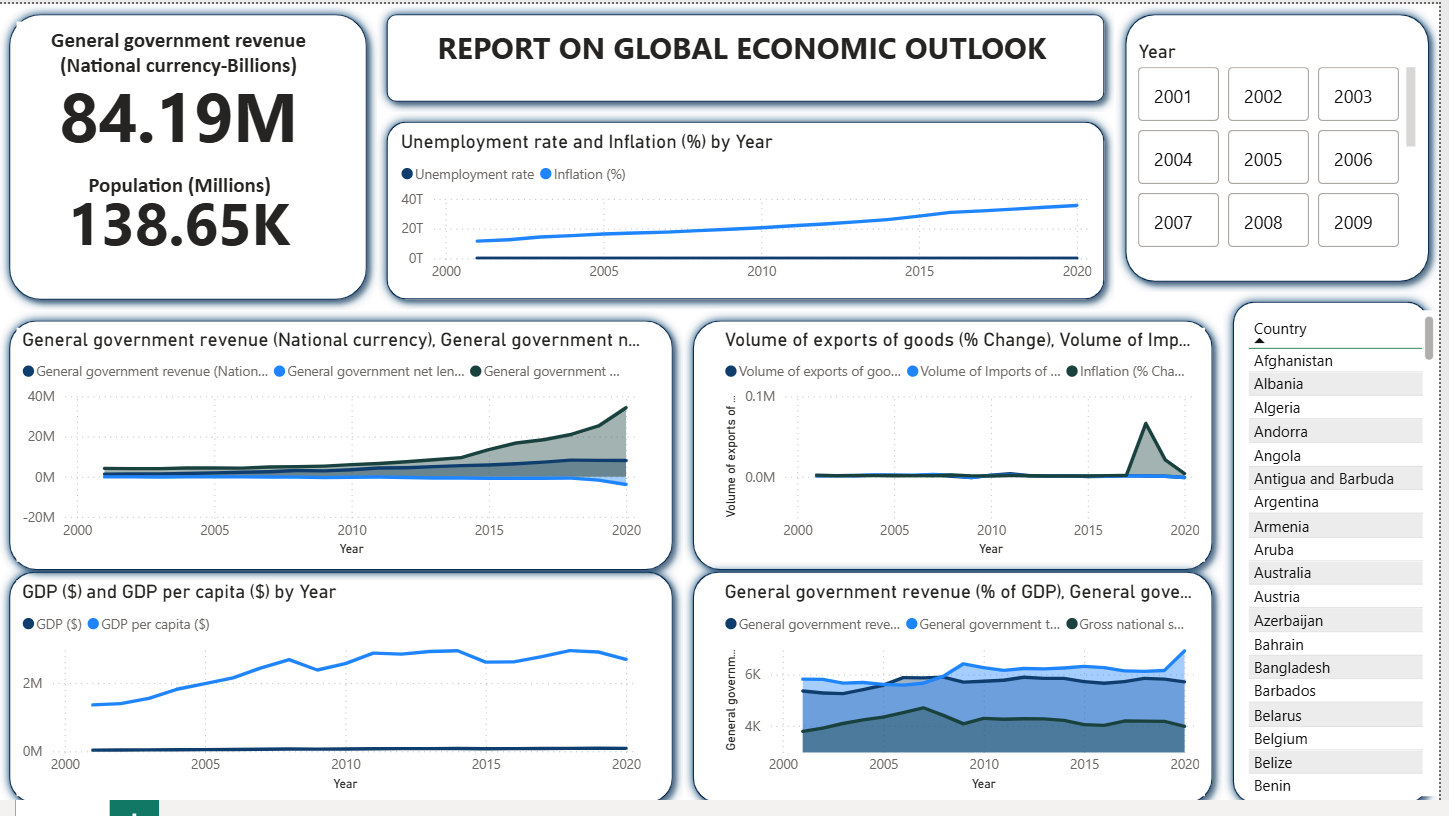

This screenshot's page, from the dashboard's own definition file:
{"tool":"powerbi","page":{"name":"Page 1","canvas":[1280,720],"ordinal":0},"visuals":[{"type":"shape","box":[0,496,608,224],"z":0},{"type":"lineChart","fields":{"Category":["Data csv.Year"],"Y":["Sum(Data csv.Gross domestic product, current prices,U.S. dollars)","Sum(Data csv.Gross domestic product per capita, current prices,U.S. dollars)"]},"box":[16,512,560,192],"z":1000},{"type":"shape","box":[608,272,480,240],"z":2000},{"type":"shape","box":[0,272,608,240],"z":3000},{"type":"areaChart","fields":{"Y":["Sum(Data csv.General government revenue,National currency)","Sum(Data csv.General government net lending/borrowing,National currency)","Sum(Data csv.General government gross debt,National currency)"],"Category":["Data csv.Year"]},"box":[16,288,560,208],"z":4000},{"type":"areaChart","fields":{"Category":["Data csv.Year"],"Y":["Sum(Data csv.Volume of exports of goods,Percent change)","Sum(Data csv.Volume of Imports of goods,Percent change)","Sum(Data csv.Inflation, average consumer prices,Percent change)"]},"box":[640,288,432,208],"z":5000},{"type":"shape","box":[608,496,480,224],"z":6000},{"type":"areaChart","fields":{"Y":["Sum(Data csv.General government revenue,Percent of GDP)","Sum(Data csv.General government total expenditure,Percent of GDP)","Sum(Data csv.Gross national savings,Percent of GDP)"],"Category":["Data csv.Year"]},"box":[640,512,432,192],"z":7000},{"type":"shape","box":[1088,256,192,464],"z":8000},{"type":"tableEx","fields":{"Values":["Data csv.Country"]},"box":[1104,272,176,432],"z":9000},{"type":"shape","box":[992,0,288,256],"z":10000},{"type":"shape","box":[336,96,656,176],"z":11000},{"type":"shape","box":[336,0,656,96],"z":12000},{"type":"shape","box":[0,0,336,272],"z":13000},{"type":"textbox","box":[16,16,288,64],"z":14000},{"type":"textbox","box":[384,16,560,64],"z":15000},{"type":"lineChart","fields":{"Category":["Data csv.Year"],"Y":["Sum(Data csv.Unemployment rate,Percent of total labor force)","Sum(Data csv.Inflation, average consumer prices,Index)"]},"box":[352,112,624,144],"z":16000},{"type":"advancedSlicerVisual","fields":{"Values":["Data csv.Year"]},"box":[1008,32,256,192],"z":17000},{"type":"card","fields":{"Values":["Sum(Data csv.Population,Persons)"]},"box":[48,160,224,64],"z":18000},{"type":"textbox","box":[64,144,192,32],"z":19000},{"type":"card","fields":{"Values":["Sum(Data csv.General government revenue,National currency)"]},"box":[48,64,224,64],"z":20000}]}

Visuals, with their boxes in screenshot pixels (x1, y1, x2, y2), scaled from the page's 1280x720 canvas onto the 1449x816 screenshot:
shape: rect(0, 562, 688, 815)
lineChart - Data csv.Year x Sum(Data csv.Gross domestic product, current prices,U.S. dollars): rect(18, 580, 652, 798)
shape: rect(688, 308, 1232, 580)
shape: rect(0, 308, 688, 580)
areaChart - Sum(Data csv.General government revenue,National currency) x Sum(Data csv.General government net lending/borrowing,National currency): rect(18, 326, 652, 562)
areaChart - Data csv.Year x Sum(Data csv.Volume of exports of goods,Percent change): rect(724, 326, 1214, 562)
shape: rect(688, 562, 1232, 815)
areaChart - Sum(Data csv.General government revenue,Percent of GDP) x Sum(Data csv.General government total expenditure,Percent of GDP): rect(724, 580, 1214, 798)
shape: rect(1232, 290, 1448, 815)
tableEx - Data csv.Country: rect(1250, 308, 1448, 798)
shape: rect(1123, 0, 1448, 290)
shape: rect(380, 109, 1123, 308)
shape: rect(380, 0, 1123, 109)
shape: rect(0, 0, 380, 308)
textbox: rect(18, 18, 344, 91)
textbox: rect(435, 18, 1069, 91)
lineChart - Data csv.Year x Sum(Data csv.Unemployment rate,Percent of total labor force): rect(398, 127, 1105, 290)
advancedSlicerVisual - Data csv.Year: rect(1141, 36, 1431, 254)
card - Sum(Data csv.Population,Persons): rect(54, 181, 308, 254)
textbox: rect(72, 163, 290, 199)
card - Sum(Data csv.General government revenue,National currency): rect(54, 73, 308, 145)
